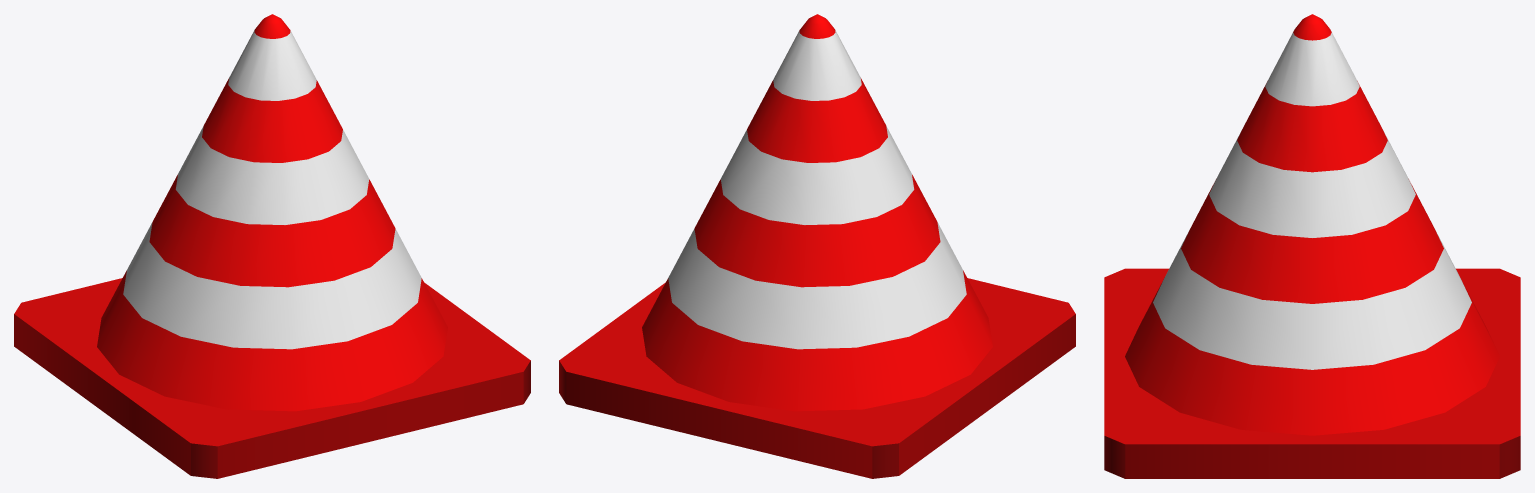
Rendered from D_FBX_13_Gashi_A.fbx.
The picture shows the model from 3 angles, left to right: view 1: azimuth 30°, elevation 25°; view 2: azimuth 150°, elevation 25°; view 3: azimuth 270°, elevation 25°; orthographic projection. The views are drawn at different scales.
Visible parts, largest first — view 1: D_FBX_13_Gashi_A; view 2: D_FBX_13_Gashi_A; view 3: D_FBX_13_Gashi_A.
Boxes of the visible parts, x1,y1,x2,y2 form: D_FBX_13_Gashi_A: (14, 14, 530, 478); D_FBX_13_Gashi_A: (559, 14, 1075, 478); D_FBX_13_Gashi_A: (1104, 14, 1520, 478).
Size of the model in its own units: 100 by 100 by 100.
